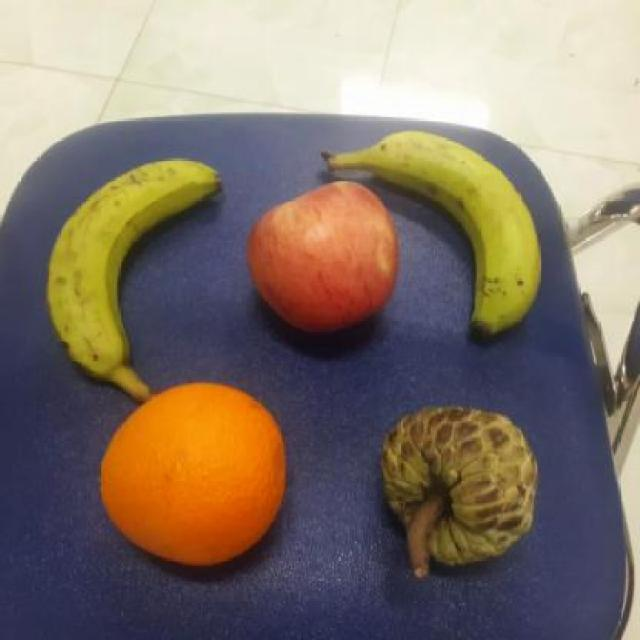apple: (246, 179, 399, 333)
banana: (324, 132, 541, 336), (43, 156, 225, 381)
oren: (98, 380, 290, 565)
sugar apple: (379, 406, 536, 562)
